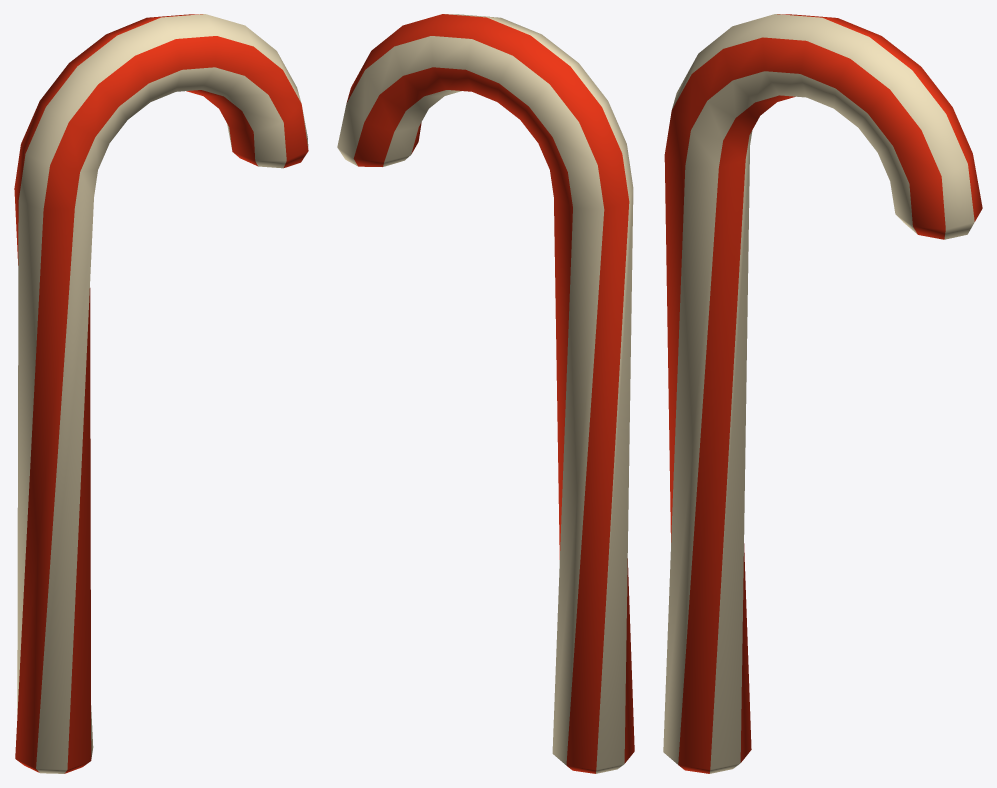
Rendered from CandyCane.fbx.
3 renders of one model, left to right at view 1: azimuth 30°, elevation 25°; view 2: azimuth 150°, elevation 25°; view 3: azimuth 330°, elevation 25°, orthographic. The views are drawn at different scales.
Parts seen in each view (by area): view 1: CandCane; view 2: CandCane; view 3: CandCane.
Boxes of the visible parts, x1=… form: CandCane: x1=14, y1=14, x2=308, y2=773; CandCane: x1=337, y1=14, x2=634, y2=773; CandCane: x1=663, y1=14, x2=982, y2=773.
Bounding box in the file's own units: 0.1985 × 0.4743 × 0.0494.
